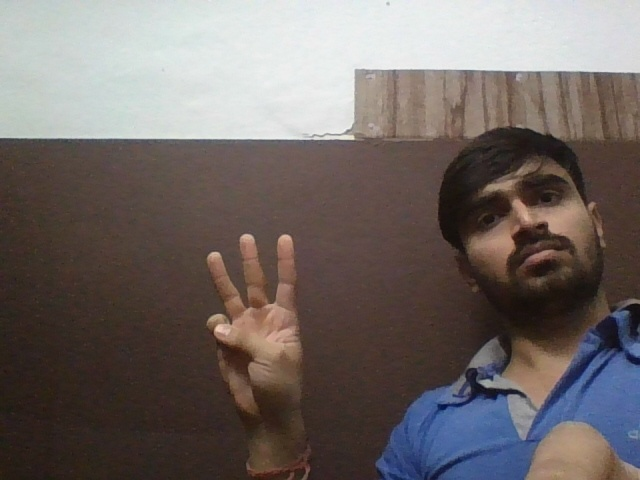W: (195, 230, 310, 411)
